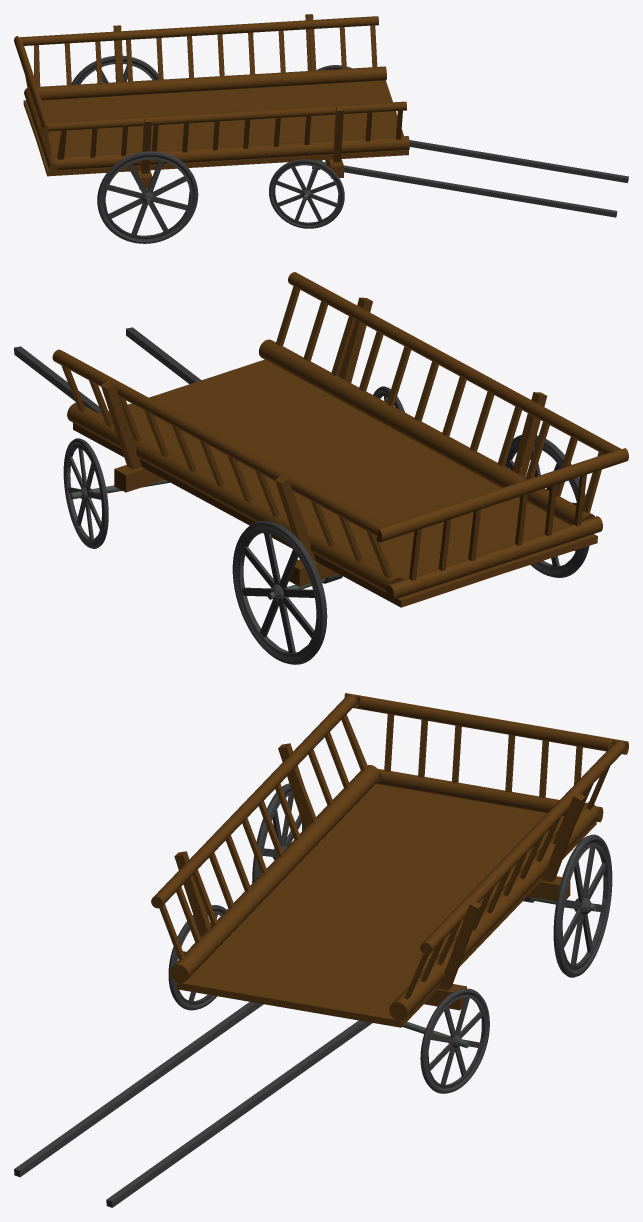
Rendered from Cart.fbx.
3 renders of one model, top to bottom at view 1: azimuth 30°, elevation 25°; view 2: azimuth 150°, elevation 25°; view 3: azimuth 270°, elevation 25°, orthographic. The views are drawn at different scales.
Visible parts, largest first — view 1: Plane.061, Cylinder.121, Cube.050, Cube.049; view 2: Plane.061, Cube.050, Cylinder.121, Cube.049, Cube.047, Cube.048; view 3: Plane.061, Cylinder.121, Cube.050, Cube.049.
Part boxes in pixels (box(x1,y1,x2,y2)): Plane.061: box(14, 16, 409, 176); Cylinder.121: box(269, 65, 628, 228); Cube.050: box(71, 55, 198, 243); Cube.049: box(113, 14, 343, 173); Plane.061: box(52, 272, 628, 607); Cube.050: box(232, 435, 589, 664); Cylinder.121: box(14, 327, 404, 548); Cube.049: box(101, 297, 547, 561); Cube.047: box(114, 465, 164, 492); Cube.048: box(289, 559, 338, 586); Plane.061: box(151, 693, 628, 1027); Cylinder.121: box(14, 905, 489, 1207); Cube.050: box(252, 783, 612, 977); Cube.049: box(174, 743, 585, 990).
Bounding box in the file's own units: 521 × 123 × 388.
